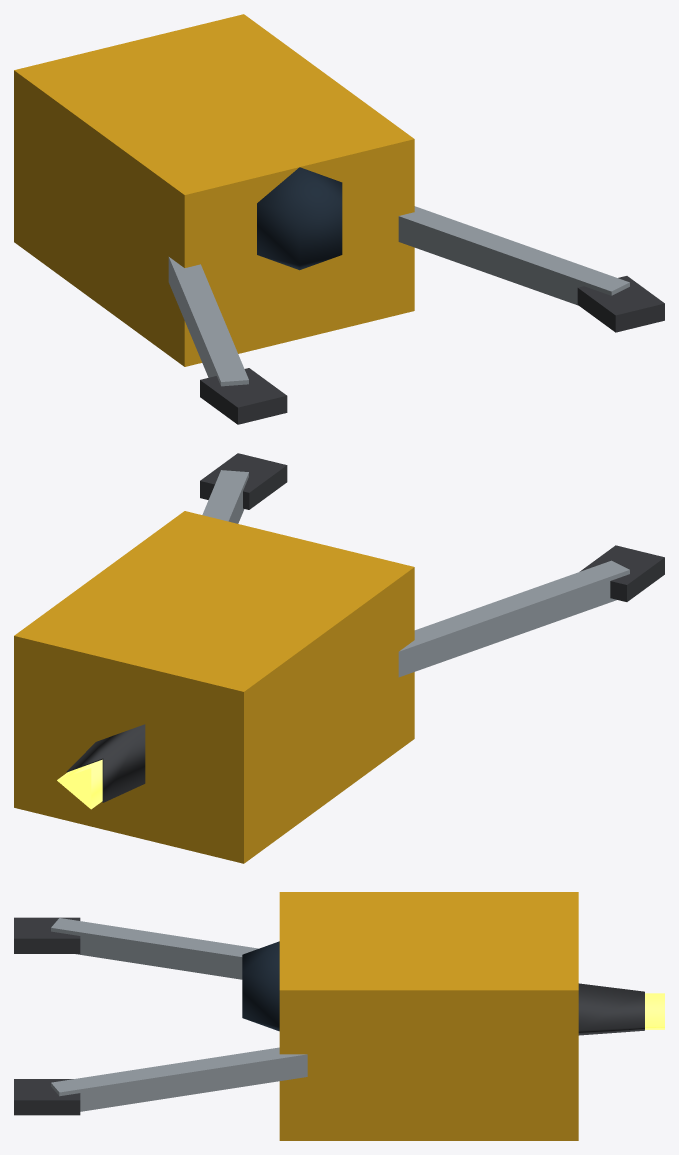
File: space_ship_builder_drone_mk1_lod2.glb
3 views of the same model, one above another, from view 1: azimuth 30°, elevation 25°; view 2: azimuth 150°, elevation 25°; view 3: azimuth 270°, elevation 25° (orthographic). The views are drawn at different scales.
Visible parts, largest first — view 1: body, arm_1, arm_0; view 2: body, arm_0, engine_0, arm_1; view 3: body, arm_1, arm_0, engine_0.
Part boxes in pixels (bbox=[...]): body: bbox=[14, 14, 414, 366]; arm_1: bbox=[398, 206, 664, 332]; arm_0: bbox=[168, 257, 287, 424]; body: bbox=[14, 511, 414, 863]; arm_0: bbox=[398, 545, 664, 677]; engine_0: bbox=[57, 724, 145, 809]; arm_1: bbox=[200, 453, 287, 523]; body: bbox=[242, 892, 578, 1140]; arm_1: bbox=[14, 1047, 307, 1115]; arm_0: bbox=[14, 917, 258, 979]; engine_0: bbox=[578, 983, 664, 1035].
Bounding box in the file's own units: 2.6 × 1 × 3.92.
